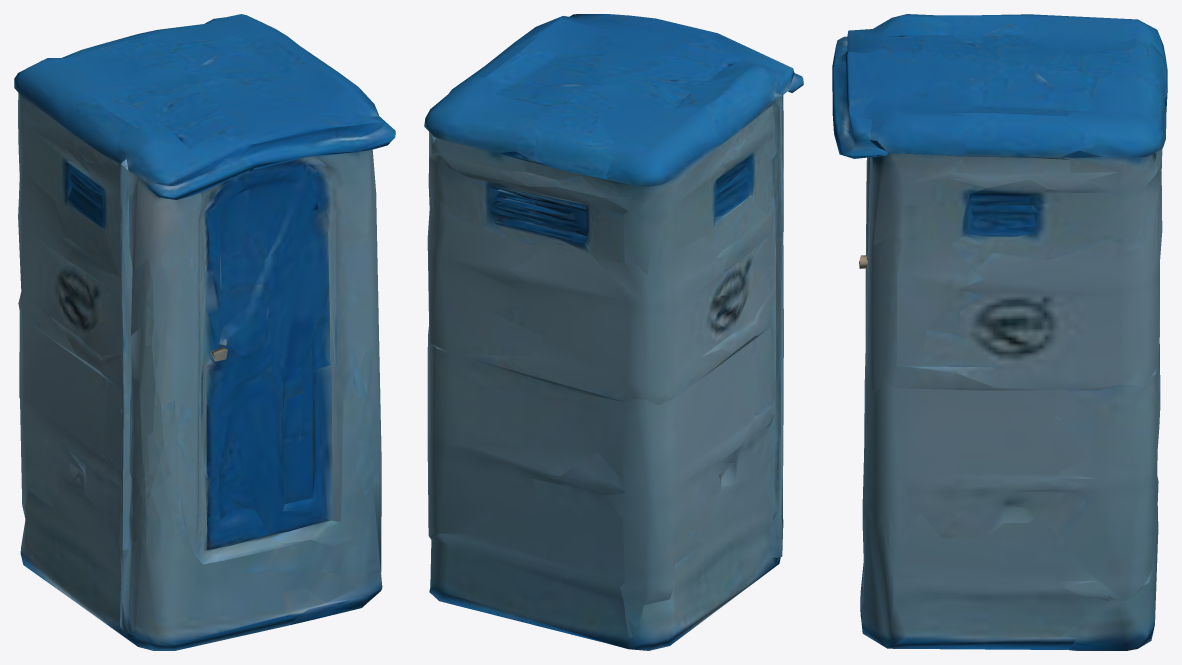
File: portable_toilet_lod2.glb
The picture shows the model from 3 angles, left to right: view 1: azimuth 30°, elevation 25°; view 2: azimuth 150°, elevation 25°; view 3: azimuth 270°, elevation 25°; orthographic projection. The views are drawn at different scales.
Visible parts, largest first — view 1: tripo_node_248de0d9; view 2: tripo_node_248de0d9; view 3: tripo_node_248de0d9.
Part boxes in pixels (bbox=[...]): tripo_node_248de0d9: bbox=[14, 14, 395, 650]; tripo_node_248de0d9: bbox=[424, 14, 803, 650]; tripo_node_248de0d9: bbox=[832, 14, 1167, 650].
Bounding box in the file's own units: 53.03 × 99.98 × 57.98.
1 material, 1 textured.
